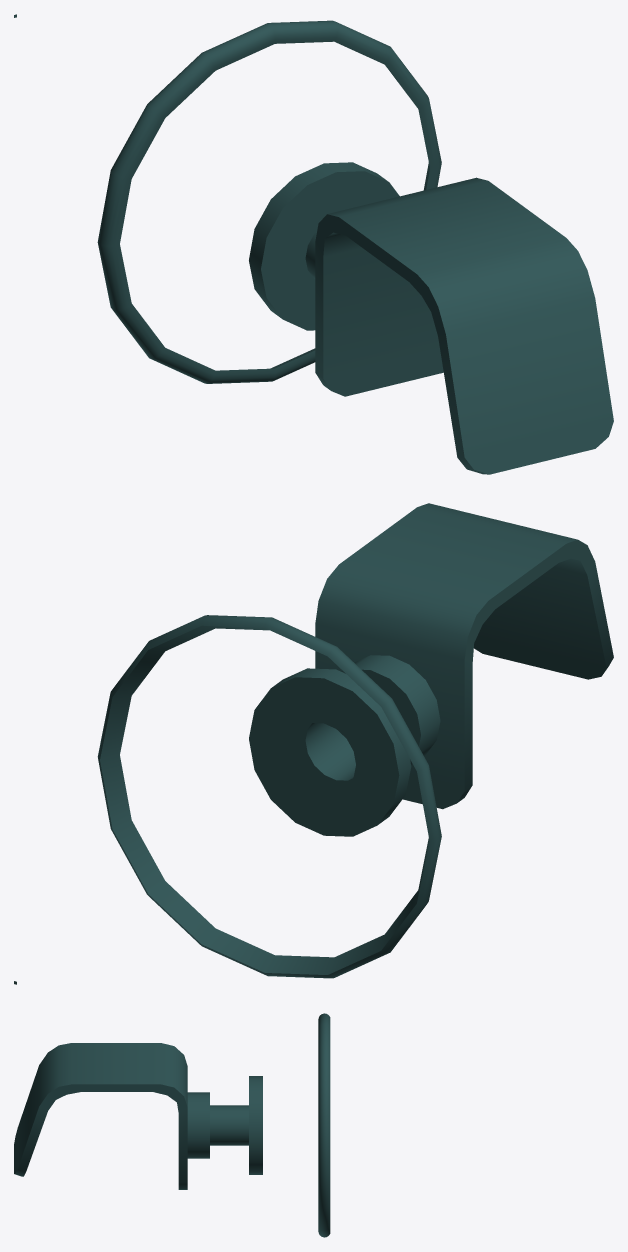
The model's file is MeshSoapBottle_10_0_GeomSubset_1.obj.
3 renders of one model, top to bottom at view 1: azimuth 30°, elevation 25°; view 2: azimuth 150°, elevation 25°; view 3: azimuth 270°, elevation 25°, orthographic. The views are drawn at different scales.
Parts seen in each view (by area): view 1: MeshSoapBottle_10_0_GeomSubset_1; view 2: MeshSoapBottle_10_0_GeomSubset_1; view 3: MeshSoapBottle_10_0_GeomSubset_1.
Boxes of the visible parts, bbox=[...] form: MeshSoapBottle_10_0_GeomSubset_1: bbox=[14, 14, 613, 474]; MeshSoapBottle_10_0_GeomSubset_1: bbox=[14, 503, 613, 984]; MeshSoapBottle_10_0_GeomSubset_1: bbox=[14, 1013, 330, 1237].
Bounding box in the file's own units: 0.1163 × 0.1163 × 0.3111.
